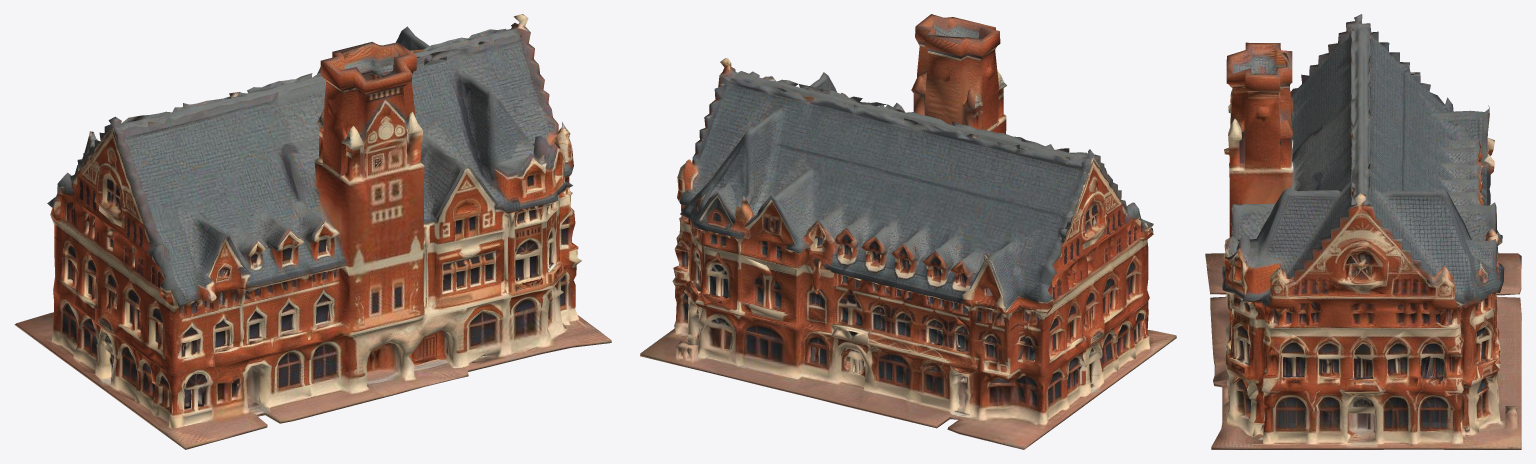
The model's file is lumbercamp.glb.
3 renders of one model, left to right at view 1: azimuth 30°, elevation 25°; view 2: azimuth 150°, elevation 25°; view 3: azimuth 270°, elevation 25°, orthographic. The views are drawn at different scales.
Size of the model in its own units: 1.91 by 1.35 by 1.32.
1 material, 1 textured.
